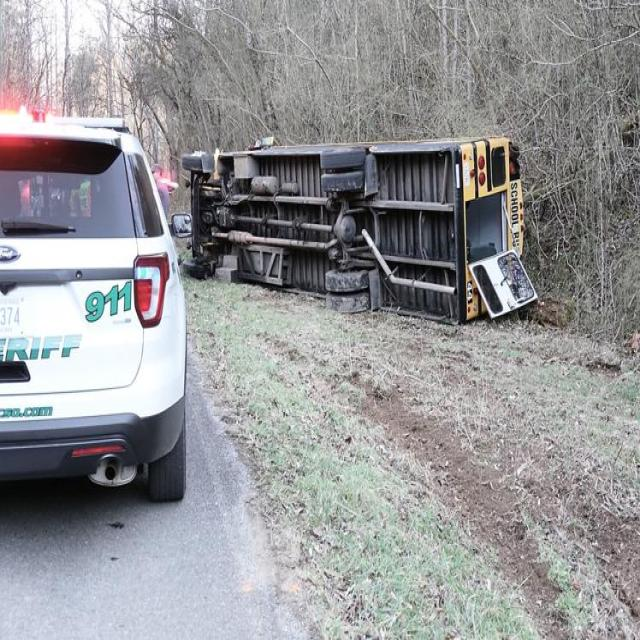turned over vechile: (159, 90, 627, 381)
